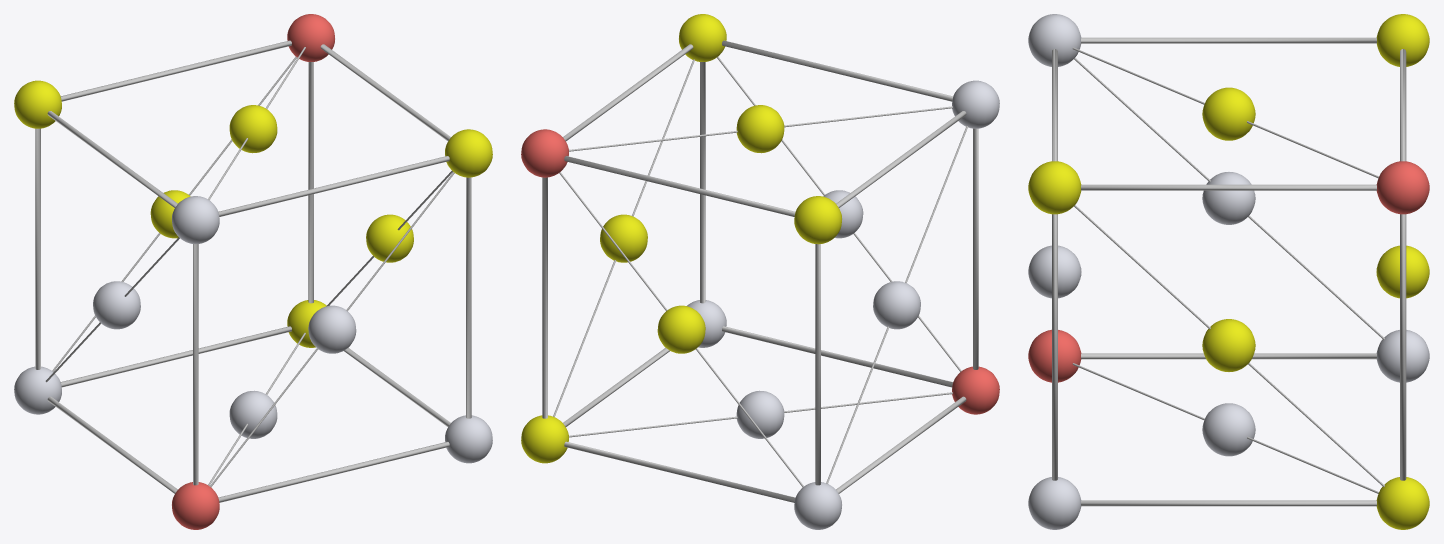
3 renders of one model, left to right at view 1: azimuth 30°, elevation 25°; view 2: azimuth 150°, elevation 25°; view 3: azimuth 270°, elevation 25°, orthographic. The views are drawn at different scales.
Parts seen in each view (by area): view 1: Rectangle003, zhengsimiantifinal_group42_zhengsimiantifinal_jinge5_zhengsimian, zhengsimiantifinal_jinge5_zhengsimiantifinal_group43_zhengsimian, zhengsimiantifinal_jinge5_zhengsimiantifinal_pSphere12_zhengsimi, zhengsimiantifinal_jinge5_zhengsimiantifinal_pSphere18_zhengsimi, zhengsimiantifinal_jinge5_zhengsimiantifinal_group44_zhengsimian, zhengsimiantifinal_pSphere11_zhengsimiantifinal_group42_zhengsim; view 2: Rectangle003, zhengsimiantifinal_group42_zhengsimiantifinal_jinge5_zhengsimian, zhengsimiantifinal_jinge5_zhengsimiantifinal_group43_zhengsimian, zhengsimiantifinal_jinge5_zhengsimiantifinal_group44_zhengsimian, zhengsimiantifinal_pSphere11_zhengsimiantifinal_group42_zhengsim, zhengsimiantifinal_jinge5_zhengsimiantifinal_pSphere12_zhengsimi, zhengsimiantifinal_jinge5_zhengsimiantifinal_pSphere18_zhengsimi; view 3: Rectangle003, zhengsimiantifinal_jinge5_zhengsimiantifinal_group43_zhengsimian, zhengsimiantifinal_group42_zhengsimiantifinal_jinge5_zhengsimian, zhengsimiantifinal_jinge5_zhengsimiantifinal_pSphere12_zhengsimi, zhengsimiantifinal_pSphere11_zhengsimiantifinal_group42_zhengsim, zhengsimiantifinal_jinge5_zhengsimiantifinal_pSphere18_zhengsimi, zhengsimiantifinal_jinge5_zhengsimiantifinal_group44_zhengsimian.
Part boxes in pixels (x1,y1,x2,y2): Rectangle003: (35, 40, 471, 502); zhengsimiantifinal_group42_zhengsimiantifinal_jinge5_zhengsimian: (14, 105, 277, 414); zhengsimiantifinal_jinge5_zhengsimiantifinal_group43_zhengsimian: (172, 214, 413, 529); zhengsimiantifinal_jinge5_zhengsimiantifinal_pSphere12_zhengsimi: (445, 129, 492, 177); zhengsimiantifinal_jinge5_zhengsimiantifinal_pSphere18_zhengsimi: (445, 415, 492, 463); zhengsimiantifinal_jinge5_zhengsimiantifinal_group44_zhengsimian: (14, 80, 61, 128); zhengsimiantifinal_pSphere11_zhengsimiantifinal_group42_zhengsim: (287, 14, 334, 61); Rectangle003: (542, 40, 978, 502); zhengsimiantifinal_group42_zhengsimiantifinal_jinge5_zhengsimian: (657, 80, 999, 529); zhengsimiantifinal_jinge5_zhengsimiantifinal_group43_zhengsimian: (521, 190, 999, 463); zhengsimiantifinal_jinge5_zhengsimiantifinal_group44_zhengsimian: (794, 196, 841, 244); zhengsimiantifinal_pSphere11_zhengsimiantifinal_group42_zhengsim: (521, 129, 568, 177); zhengsimiantifinal_jinge5_zhengsimiantifinal_pSphere12_zhengsimi: (679, 14, 726, 61); zhengsimiantifinal_jinge5_zhengsimiantifinal_pSphere18_zhengsimi: (687, 300, 726, 347); Rectangle003: (1052, 37, 1406, 506); zhengsimiantifinal_jinge5_zhengsimiantifinal_group43_zhengsimian: (1028, 245, 1429, 529); zhengsimiantifinal_group42_zhengsimiantifinal_jinge5_zhengsimian: (1028, 14, 1429, 382); zhengsimiantifinal_jinge5_zhengsimiantifinal_pSphere12_zhengsimi: (1028, 161, 1081, 214); zhengsimiantifinal_pSphere11_zhengsimiantifinal_group42_zhengsim: (1376, 161, 1429, 214); zhengsimiantifinal_jinge5_zhengsimiantifinal_pSphere18_zhengsimi: (1028, 477, 1081, 529); zhengsimiantifinal_jinge5_zhengsimiantifinal_group44_zhengsimian: (1376, 14, 1429, 66).
Bounding box in the file's own units: 57.65 × 57.65 × 57.65.
